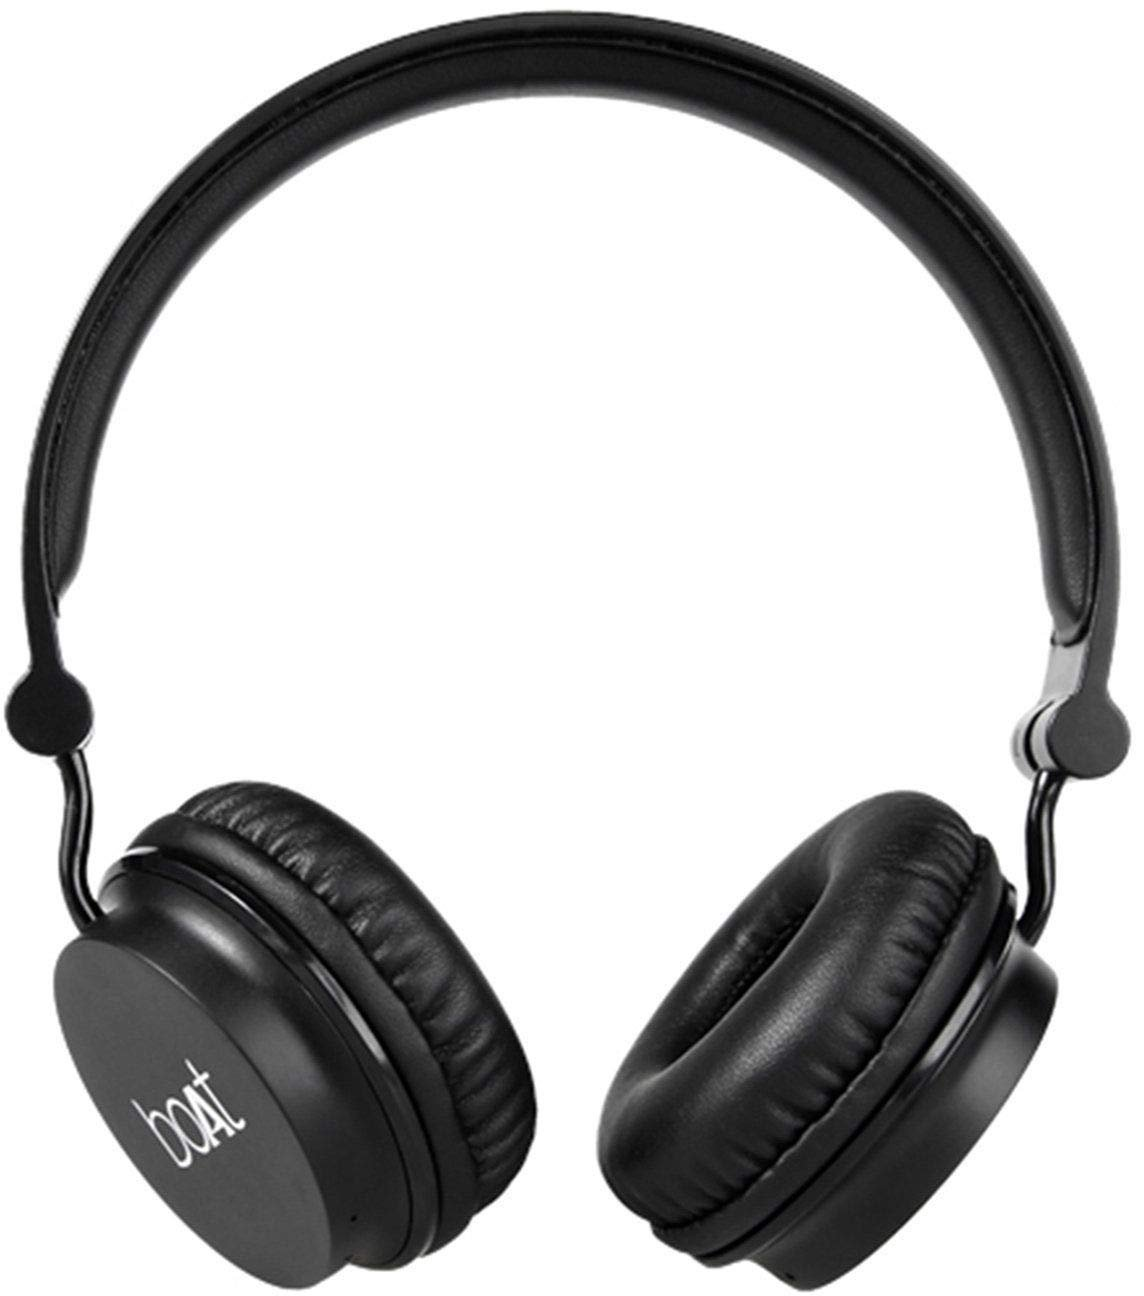Headphone: (13, 4, 1138, 1296)
